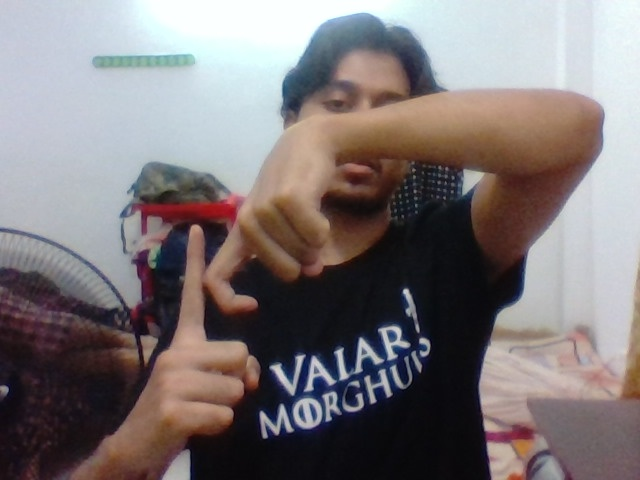K: (165, 196, 313, 429)
